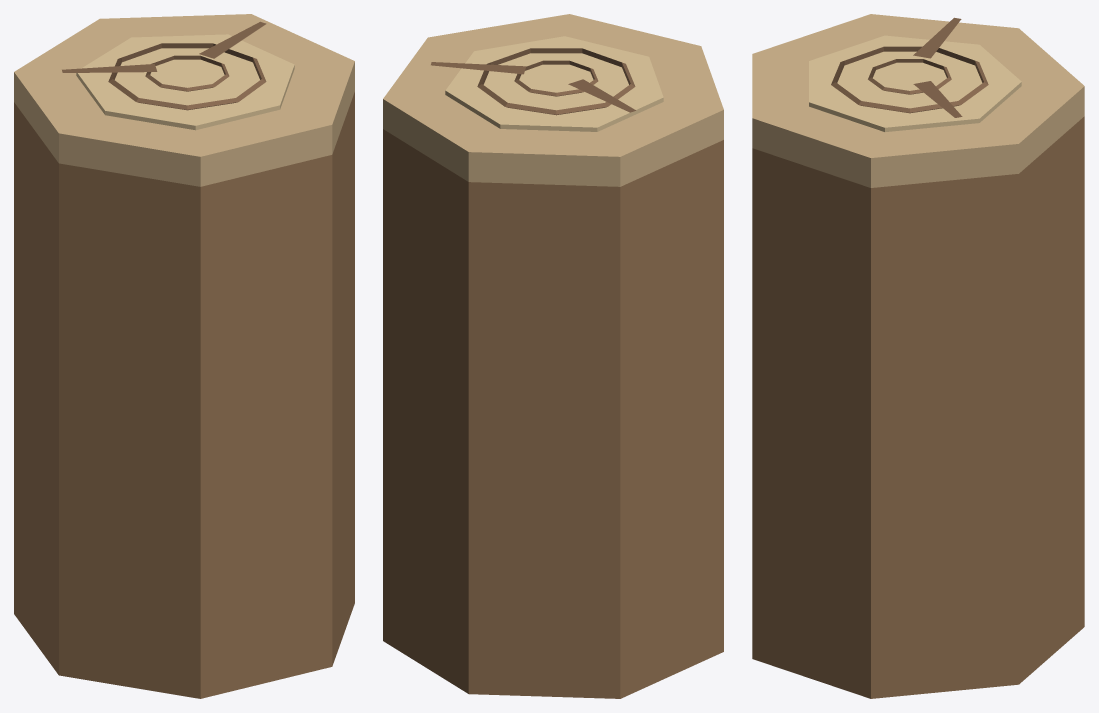
Rendered from conifer_stump_01.glb.
The picture shows the model from 3 angles, left to right: view 1: azimuth 30°, elevation 25°; view 2: azimuth 150°, elevation 25°; view 3: azimuth 270°, elevation 25°; orthographic projection.
Parts seen in each view (by area): view 1: conifer_stump_01_bark, conifer_stump_01_cut_cap, conifer_stump_01_inner_cut, conifer_stump_01_growth_ring_outer, conifer_stump_01_growth_ring_inner, conifer_stump_01_cut_crack_a, conifer_stump_01_cut_crack_b; view 2: conifer_stump_01_bark, conifer_stump_01_cut_cap, conifer_stump_01_inner_cut, conifer_stump_01_growth_ring_outer, conifer_stump_01_growth_ring_inner, conifer_stump_01_cut_crack_a, conifer_stump_01_cut_crack_b; view 3: conifer_stump_01_bark, conifer_stump_01_cut_cap, conifer_stump_01_inner_cut, conifer_stump_01_growth_ring_outer, conifer_stump_01_growth_ring_inner, conifer_stump_01_cut_crack_b, conifer_stump_01_cut_crack_a.
Boxes of the visible parts, x1,y1,x2,y2 form: conifer_stump_01_bark: (14, 92, 354, 698); conifer_stump_01_cut_cap: (14, 14, 354, 186); conifer_stump_01_inner_cut: (76, 34, 294, 130); conifer_stump_01_growth_ring_outer: (108, 43, 266, 110); conifer_stump_01_growth_ring_inner: (145, 55, 229, 91); conifer_stump_01_cut_crack_a: (199, 21, 266, 58); conifer_stump_01_cut_crack_b: (62, 64, 157, 72); conifer_stump_01_bark: (383, 129, 723, 698); conifer_stump_01_cut_cap: (383, 14, 723, 186); conifer_stump_01_inner_cut: (445, 36, 663, 131); conifer_stump_01_growth_ring_outer: (477, 48, 635, 115); conifer_stump_01_growth_ring_inner: (514, 60, 598, 96); conifer_stump_01_cut_crack_a: (431, 62, 525, 74); conifer_stump_01_cut_crack_b: (568, 79, 635, 112); conifer_stump_01_bark: (752, 116, 1084, 698); conifer_stump_01_cut_cap: (752, 14, 1084, 187); conifer_stump_01_inner_cut: (809, 35, 1021, 131); conifer_stump_01_growth_ring_outer: (831, 46, 988, 113); conifer_stump_01_growth_ring_inner: (868, 59, 951, 94); conifer_stump_01_cut_crack_b: (913, 17, 961, 58); conifer_stump_01_cut_crack_a: (913, 81, 962, 117).
Bounding box in the file's own units: 0.351 × 0.635 × 0.3422.
